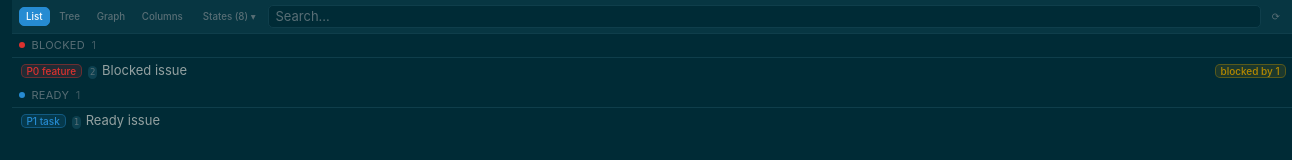
Test: BeadsPanel › toggles between the flat list and the graph view
The width and height of the screenshot is (1292, 160).
Expected: the element "Ready" is shown, [12,84,1291,134]
What coordinates should you click on to do the following:
click the radio button with aria-label "Graph view"
I would click on:
 (111, 16)
Its box is [89,6,133,26].
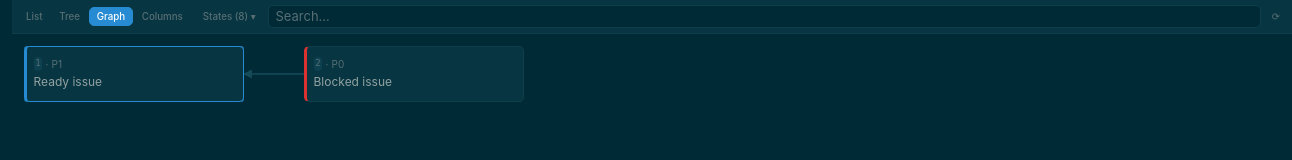
Expected: the text "Ready issue" is shown, [34,73,102,91]
Now the picture named "Dependency graph" is shown, box [12,34,596,138]
What coordinates should you click on to do the following:
click the radio button with aria-label "List view"
I would click on:
 (34, 16)
Its box is [18,6,50,26].
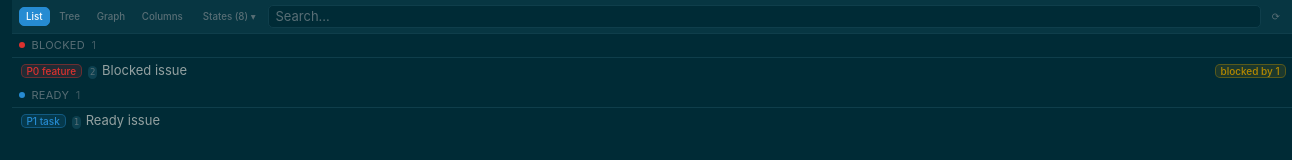
Now the element "Ready" is shown, box [12,84,1291,134]
